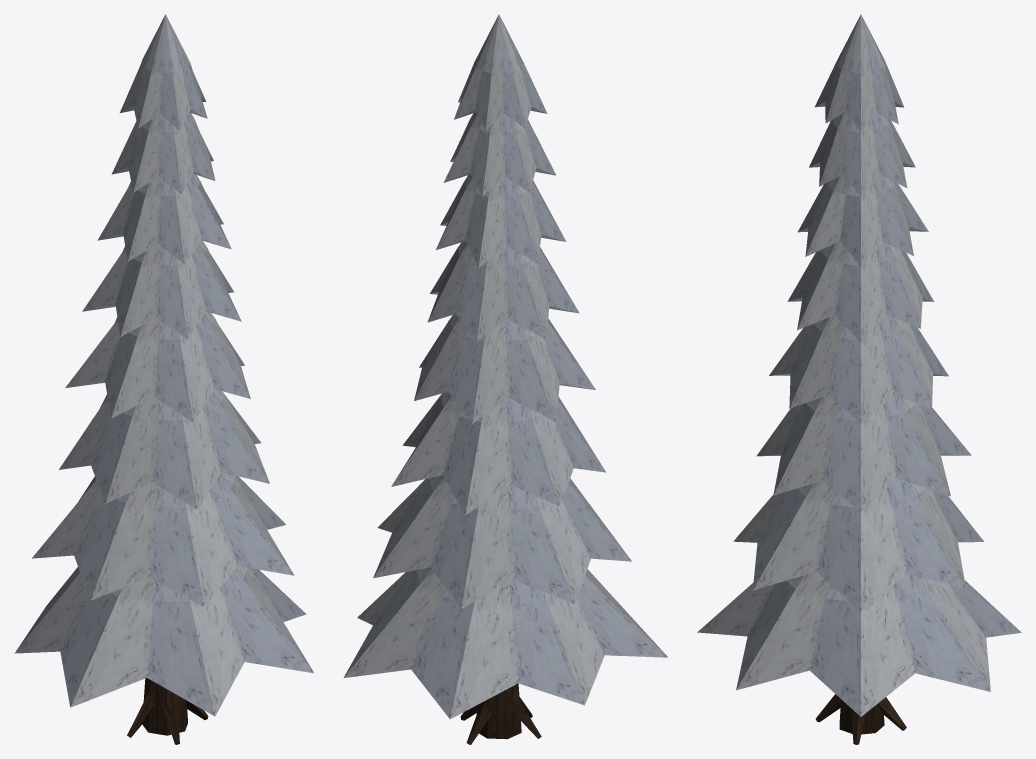
File: tree_pine_01_snow.glb
The picture shows the model from 3 angles, left to right: view 1: azimuth 30°, elevation 25°; view 2: azimuth 150°, elevation 25°; view 3: azimuth 270°, elevation 25°; orthographic projection.
Parts seen in each view (by area): view 1: tree_pine_01_snow; view 2: tree_pine_01_snow; view 3: tree_pine_01_snow.
Boxes of the visible parts, x1,y1,x2,y2 form: tree_pine_01_snow: [14, 14, 313, 744]; tree_pine_01_snow: [343, 14, 667, 744]; tree_pine_01_snow: [697, 14, 1021, 744].
Bounding box in the file's own units: 3.34 × 8.33 × 3.44.
Materials: 3 (3 with a texture image).
